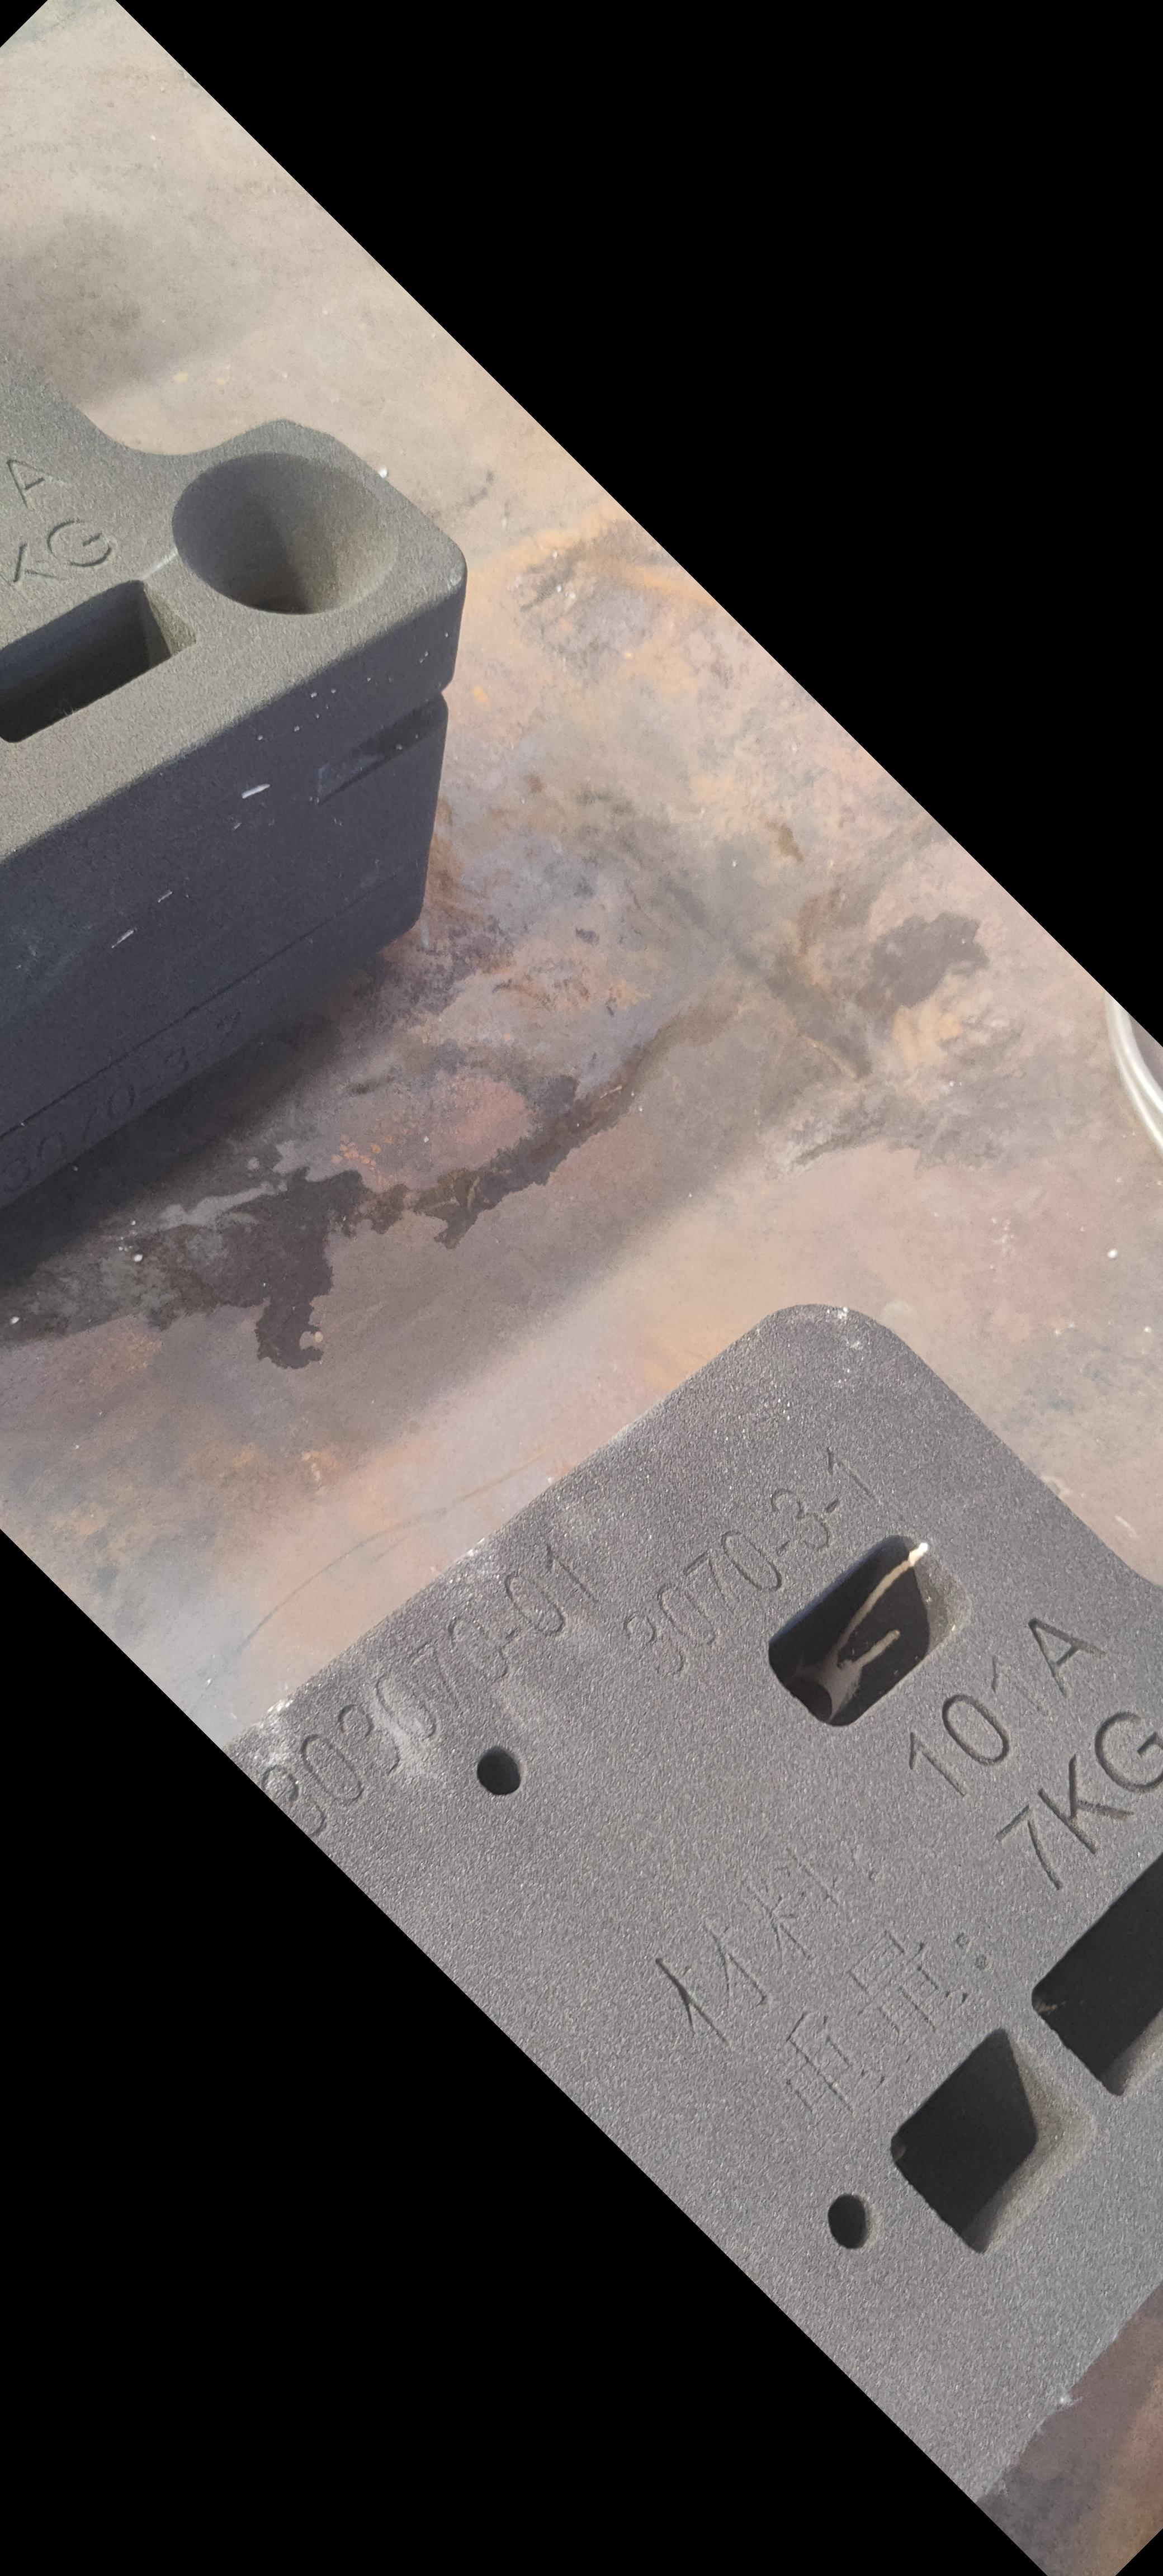pouring hole: (171, 455, 398, 614)
